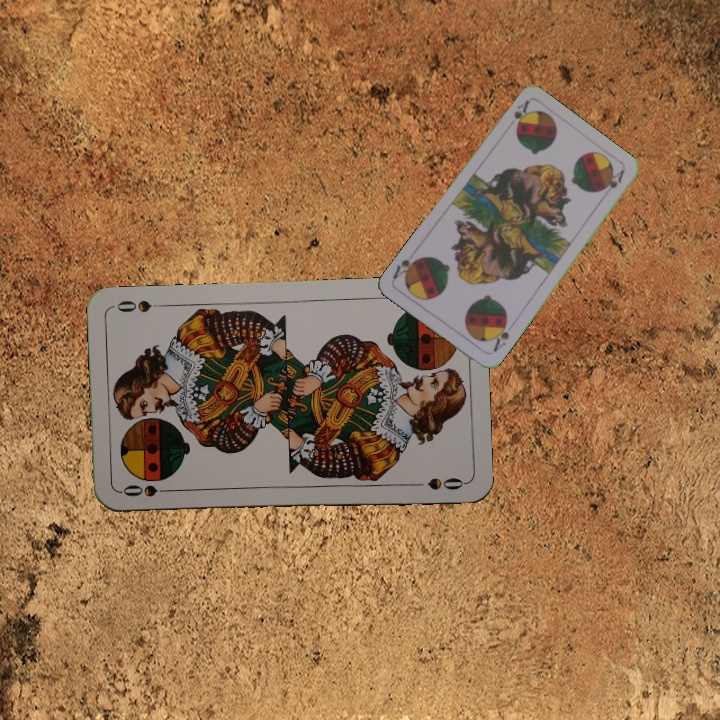SA: (488, 317, 512, 355), (509, 96, 532, 132)
SO: (118, 480, 177, 500)
